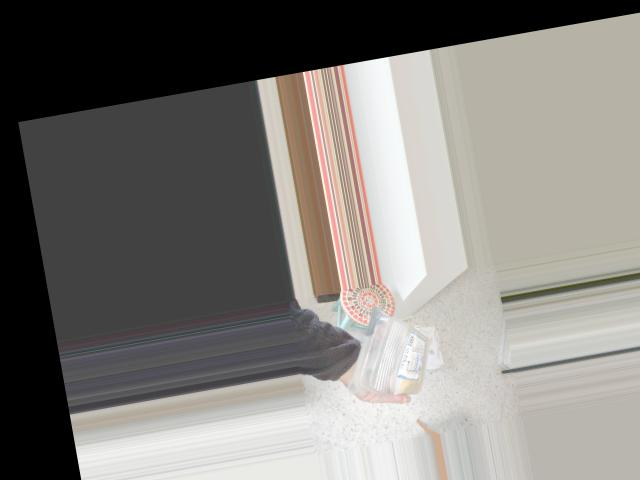cheese: (333, 290, 454, 402)
